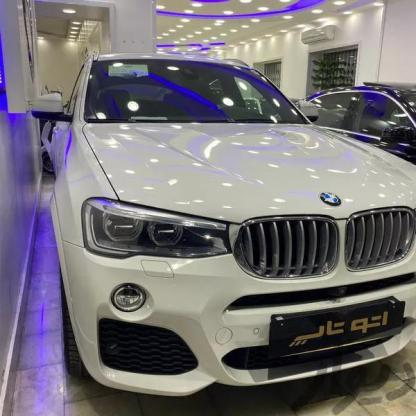Car: (30, 55, 416, 396), (290, 79, 416, 132)
